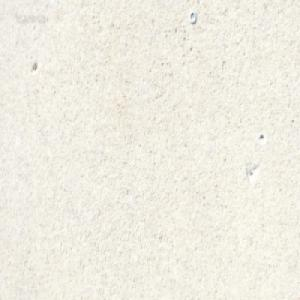Washer: (188, 10, 196, 24)
